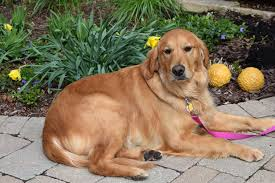Golden Retriever: (34, 21, 275, 175)
